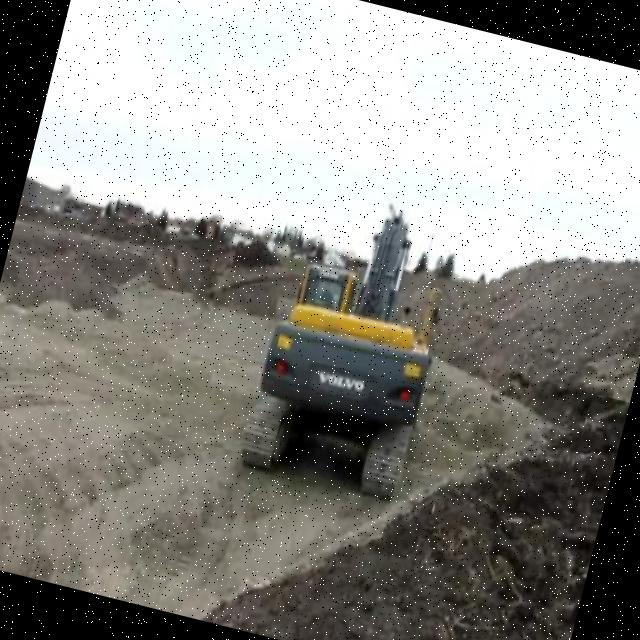Excavator: (235, 180, 465, 500)
